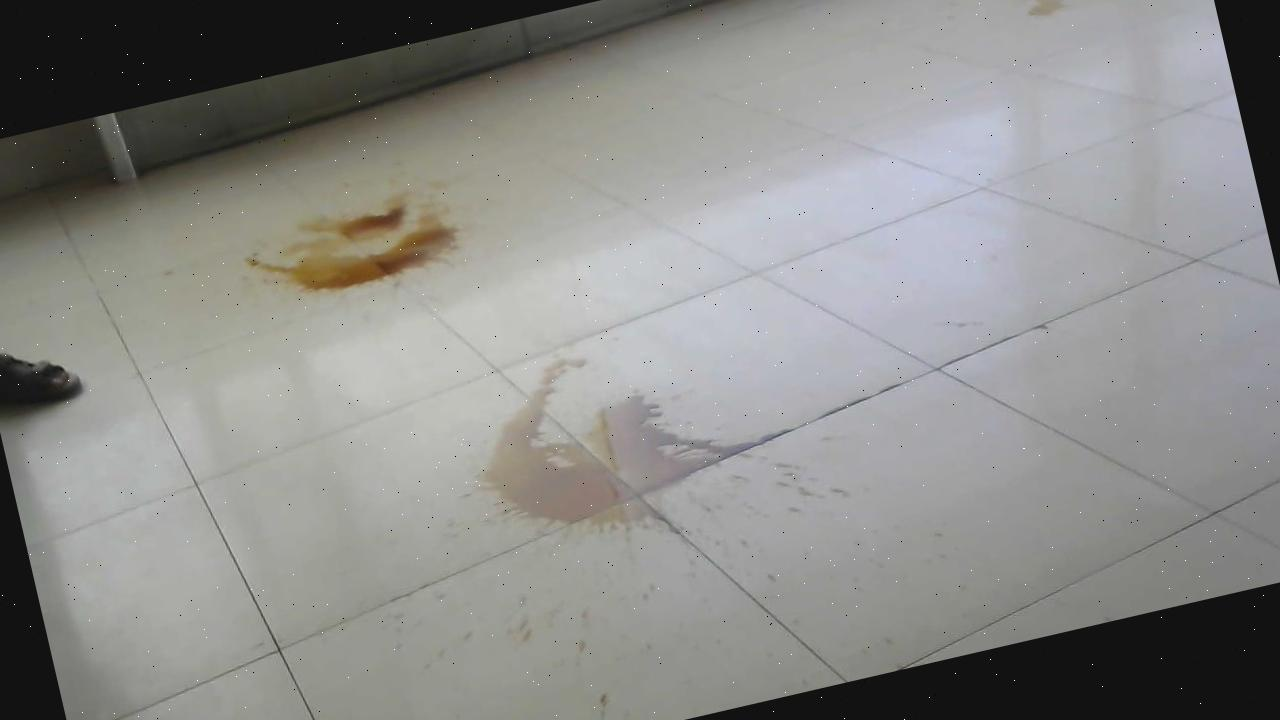dirty_floor: (434, 299, 752, 597), (220, 165, 476, 328)
